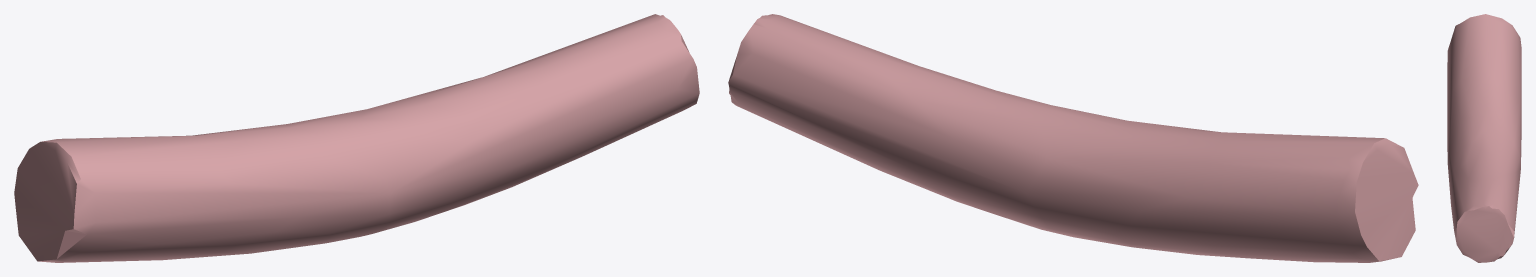
Rendered from fma68212_fj2512.glb.
The picture shows the model from 3 angles, left to right: view 1: azimuth 30°, elevation 25°; view 2: azimuth 150°, elevation 25°; view 3: azimuth 270°, elevation 25°; orthographic projection. The views are drawn at different scales.
Visible parts, largest first — view 1: FMA68212_FJ2512; view 2: FMA68212_FJ2512; view 3: FMA68212_FJ2512.
Boxes of the visible parts, left/top/right/bottom form: FMA68212_FJ2512: left=14, top=14, right=699, bottom=262; FMA68212_FJ2512: left=728, top=14, right=1418, bottom=262; FMA68212_FJ2512: left=1447, top=14, right=1521, bottom=262.
Size of the model in its own units: 0.015 by 0.00353 by 0.00248.
